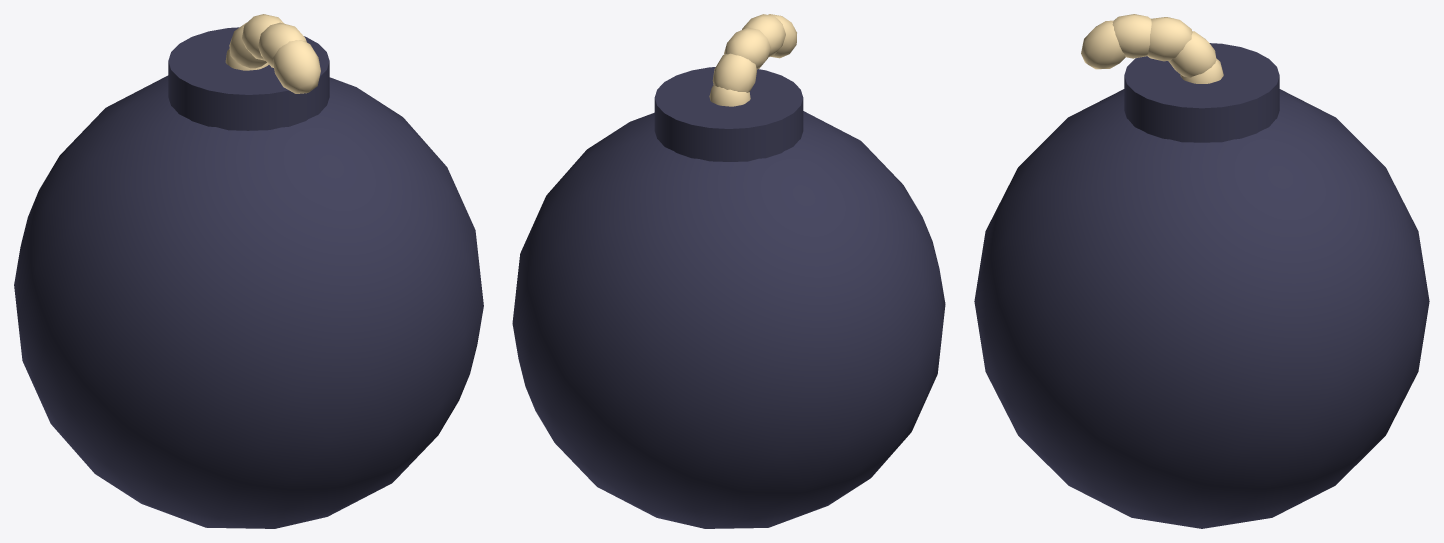
The model's file is bomb.glb.
3 renders of one model, left to right at view 1: azimuth 30°, elevation 25°; view 2: azimuth 150°, elevation 25°; view 3: azimuth 270°, elevation 25°, orthographic. The views are drawn at different scales.
Parts seen in each view (by area): view 1: Icosphere, Cylinder, Icosphere.005, Icosphere.004, Icosphere.002, Icosphere.001; view 2: Icosphere, Cylinder, Icosphere.001, Icosphere.002, Icosphere.004, Icosphere.003, Icosphere.005; view 3: Icosphere, Cylinder, Icosphere.002, Icosphere.005, Icosphere.004, Icosphere.001.
Boxes of the visible parts, x1,y1,x2,y2 form: Icosphere: (14,75,483,528); Cylinder: (168,27,329,130); Icosphere.005: (273,40,320,93); Icosphere.004: (258,22,306,67); Icosphere.002: (242,14,283,60); Icosphere.001: (229,22,266,68); Icosphere: (512,111,945,528); Cylinder: (654,67,803,161); Icosphere.001: (712,53,756,92); Icosphere.002: (724,27,770,69); Icosphere.004: (742,14,785,57); Icosphere.003: (709,85,750,106); Icosphere.005: (768,14,796,58); Icosphere: (974,89,1429,528); Cylinder: (1124,43,1279,142); Icosphere.002: (1147,17,1192,61); Icosphere.005: (1081,20,1125,69); Icosphere.004: (1112,14,1151,58); Icosphere.001: (1168,31,1216,77).
Size of the model in its own units: 4 by 4.77 by 4.
